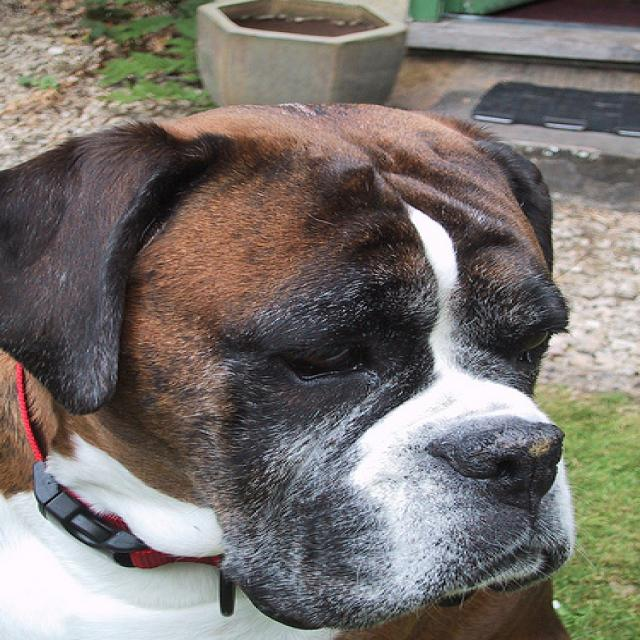dog-boxer: (2, 96, 592, 637)
